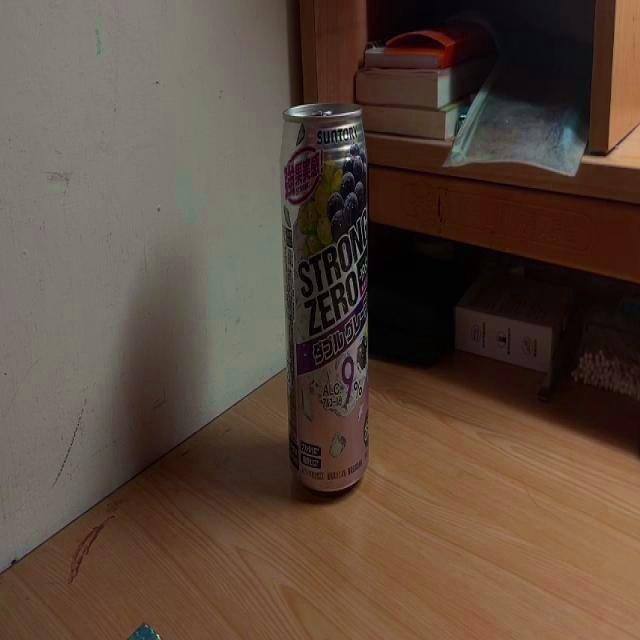Liquor: (279, 96, 370, 498)
